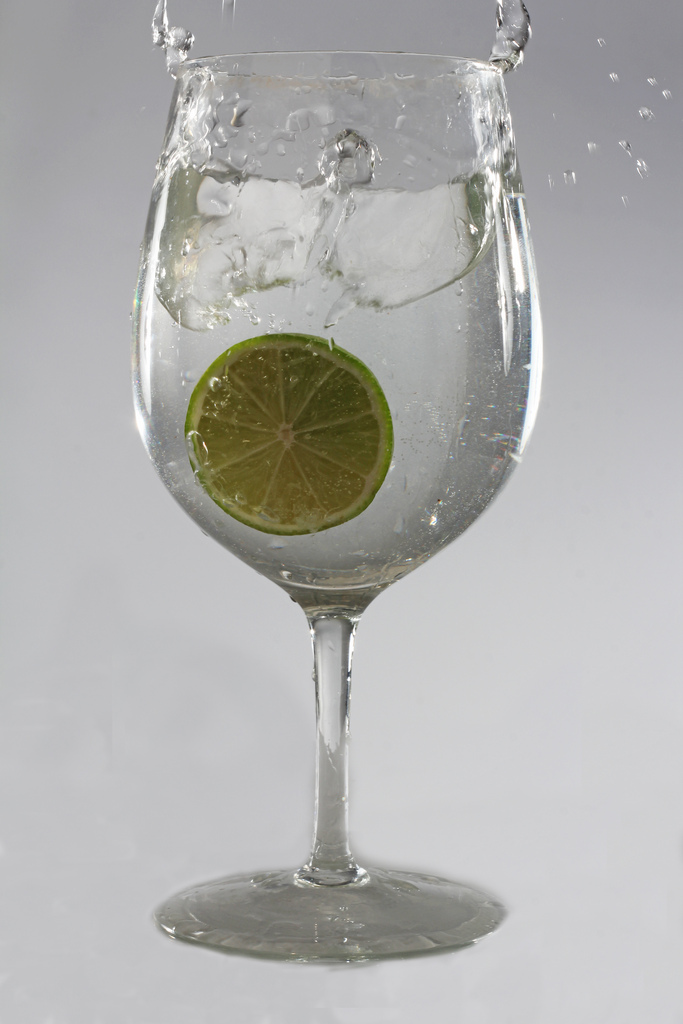glass of water: (132, 49, 526, 968)
